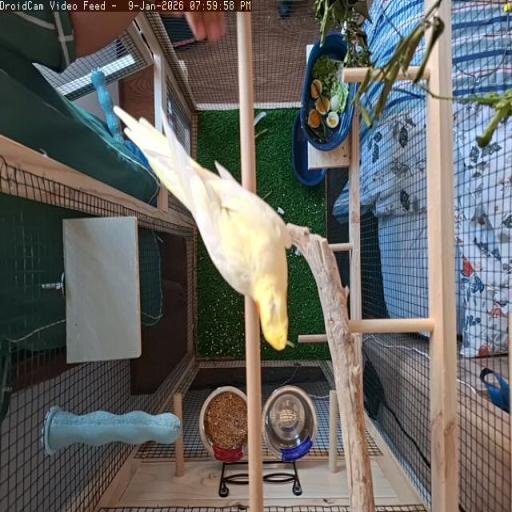bebedero: (262, 385, 316, 461)
comedero: (199, 386, 247, 462)
ninfa: (114, 106, 291, 350)
